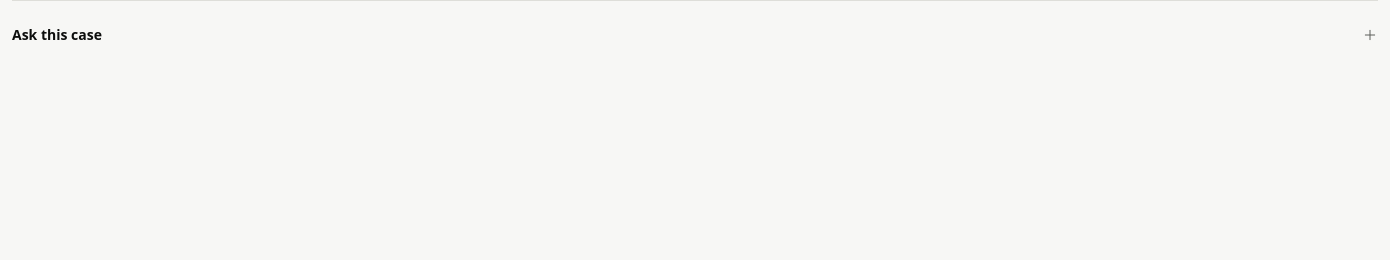
Test: AskCase › renders closed by default, opens to show 3 suggestions, posts question on click and calls drawer opener on chip click
Later steps or results of the test are not shown.
Check: the text "Why not heat stress?" is not shown
# Click to open panel
Click the button "Ask this case". click: (57, 34)
box: [12, 25, 1378, 45]
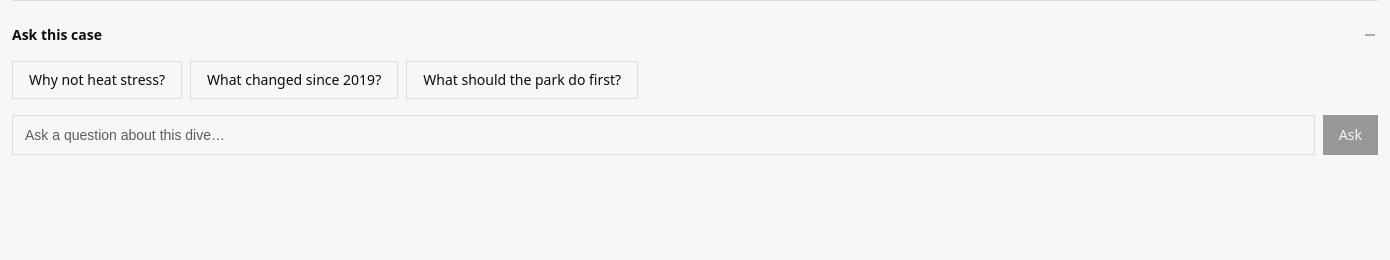
Check: the button "Ask this case" is expanded, box [12, 25, 1378, 45]
Check: the button "Why not heat stress?" is shown
Check: the button "What changed since 2019?" is shown, box [190, 61, 398, 99]
# Clicking a suggestion button sends the question immediately
Click the button "Why not heat stress?". click: (97, 80)
box: [12, 61, 182, 99]
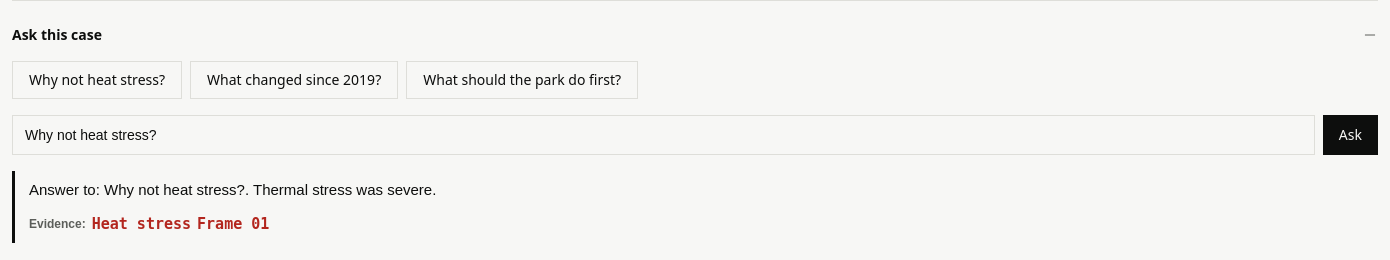
Check: the text "Answer to: Why not heat stress?. Thermal stress was severe." is shown, box [29, 181, 436, 198]
Check: the button with aria-label "Open evidence: Heat stress" is shown, box [92, 213, 191, 235]
Check: the button with aria-label "Open evidence: Frame 01" is shown, box [197, 213, 269, 235]
